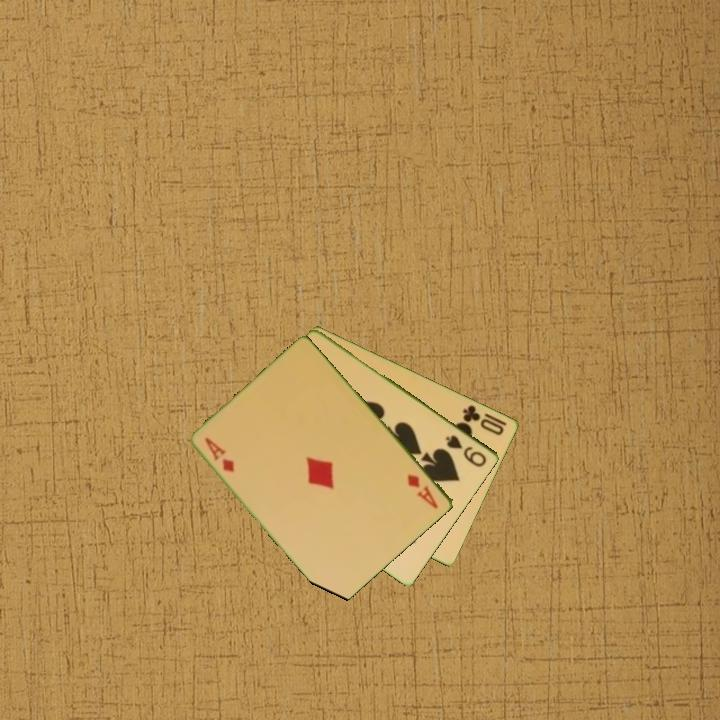10c: (459, 401, 507, 438)
9s: (442, 431, 490, 470)
Ad: (404, 471, 441, 512), (202, 433, 238, 475)
